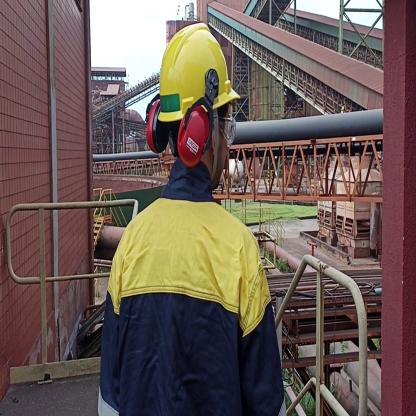C_eletrica: (98, 204, 283, 416)
Capacete: (152, 16, 241, 111)
